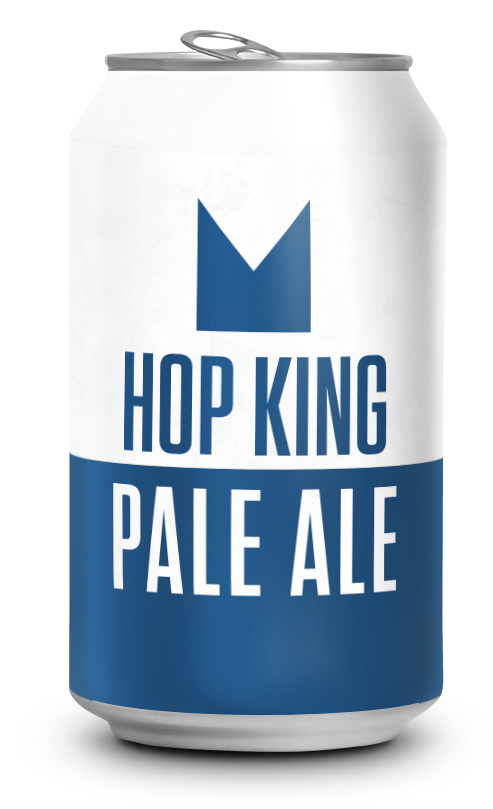beer can: (58, 40, 450, 759)
